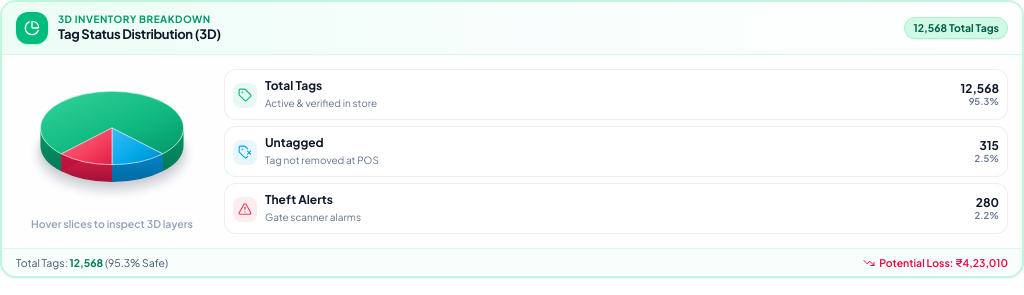
Test: TagStatusDistributionChart Component › updates dynamic focus indicator on slice hover
Expected: the text "Hover slices to inspect 3D layers" is shown, [31,216,193,230]
Hover over the text "Untagged": (322, 152) [265,135,379,168]
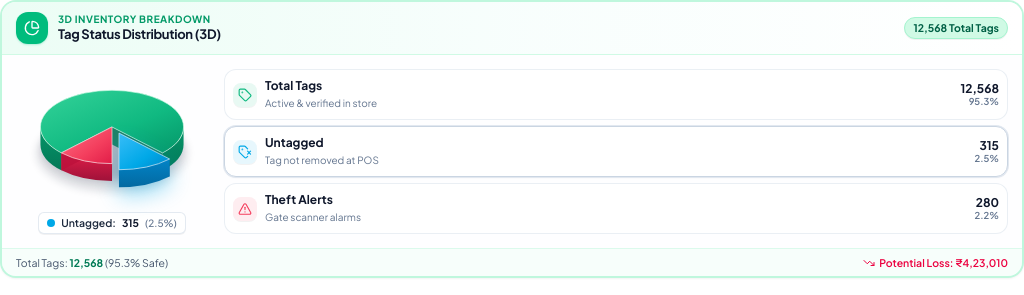
Now the text "(2.5%)" is shown, box [145,216,177,231]
